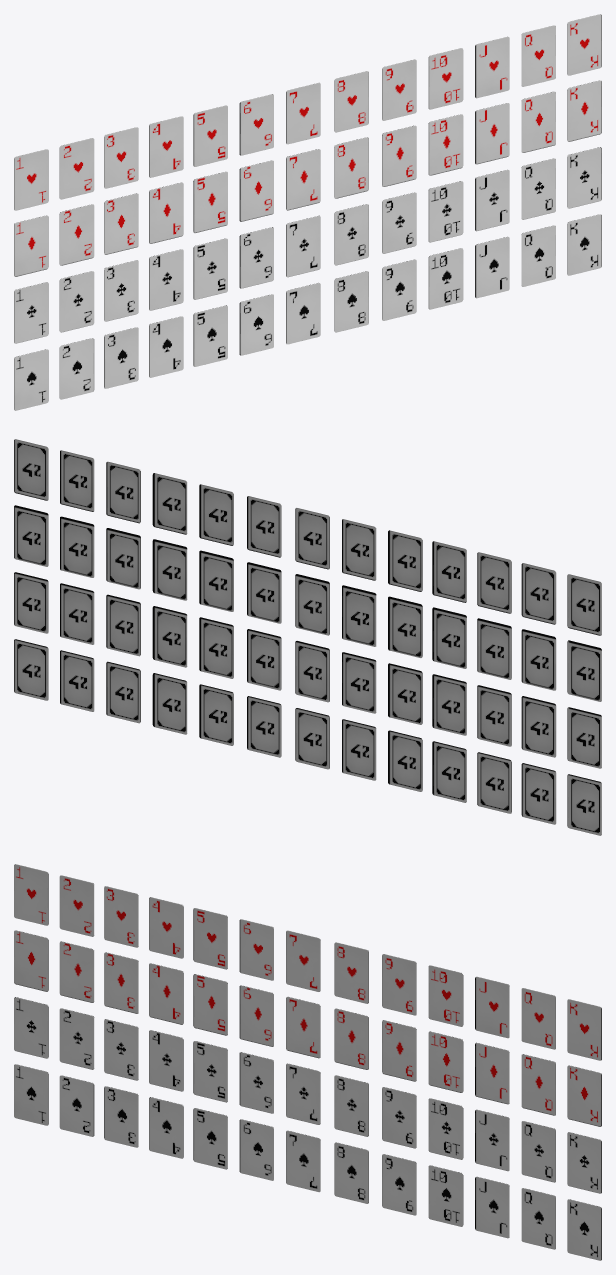
Rendered from Card-DYVM_vp5.gltf.
The picture shows the model from 3 angles, top to bottom: view 1: azimuth 30°, elevation 25°; view 2: azimuth 150°, elevation 25°; view 3: azimuth 330°, elevation 25°; orthographic projection.
Parts seen in each view (by area): view 1: diamondsTwo, diamondsTen, clubsTen, heartsTwo, heartsTen, clubsTwo, spadesTwo, spadesTen, heartsSeven, diamondsThree, heartsSix, heartsNine (+40 smaller); view 2: diamondsTwo, diamondsTen, clubsTen, heartsTwo, heartsTen, clubsTwo, spadesTwo, spadesTen, heartsSeven, diamondsThree, heartsSix, heartsNine (+40 smaller); view 3: clubsTwo, diamondsTen, diamondsTwo, spadesTwo, spadesTen, heartsTwo, heartsTen, clubsTen, diamondsFive, diamondsJack, clubsSix, spadesSeven (+40 smaller).
Part boxes in pixels (left/top/right/bottom): diamondsTwo: left=59, top=204, right=94, bottom=265; diamondsTen: left=428, top=114, right=463, bottom=175; clubsTen: left=428, top=181, right=463, bottom=242; heartsTwo: left=59, top=138, right=94, bottom=199; heartsTen: left=428, top=48, right=463, bottom=109; clubsTwo: left=59, top=271, right=94, bottom=332; spadesTwo: left=59, top=338, right=94, bottom=399; spadesTen: left=428, top=248, right=463, bottom=309; heartsSeven: left=286, top=82, right=320, bottom=144; diamondsThree: left=104, top=193, right=138, bottom=254; heartsSix: left=239, top=94, right=273, bottom=155; heartsNine: left=382, top=59, right=416, bottom=120; diamondsTwo: left=521, top=629, right=556, bottom=690; diamondsTen: left=152, top=539, right=187, bottom=600; clubsTen: left=152, top=606, right=187, bottom=667; heartsTwo: left=521, top=563, right=556, bottom=624; heartsTen: left=152, top=473, right=187, bottom=534; clubsTwo: left=521, top=696, right=556, bottom=757; spadesTwo: left=521, top=763, right=556, bottom=824; spadesTen: left=152, top=673, right=187, bottom=734; heartsSeven: left=295, top=507, right=329, bottom=569; diamondsThree: left=477, top=618, right=511, bottom=679; heartsSix: left=342, top=519, right=376, bottom=580; heartsNine: left=199, top=484, right=233, bottom=545; clubsTwo: left=59, top=1008, right=94, bottom=1069; diamondsTen: left=428, top=1031, right=463, bottom=1092; diamondsTwo: left=59, top=941, right=94, bottom=1002; spadesTwo: left=59, top=1075, right=94, bottom=1136; spadesTen: left=428, top=1165, right=463, bottom=1226; heartsTwo: left=59, top=875, right=94, bottom=936; heartsTen: left=428, top=965, right=463, bottom=1026; clubsTen: left=428, top=1098, right=463, bottom=1159; diamondsFive: left=193, top=974, right=227, bottom=1035; diamondsJack: left=475, top=1042, right=509, bottom=1104; clubsSix: left=239, top=1052, right=273, bottom=1113; spadesSeven: left=286, top=1130, right=320, bottom=1192.
Size of the model in its own units: 1.37 by 0.5649 by 0.001.
